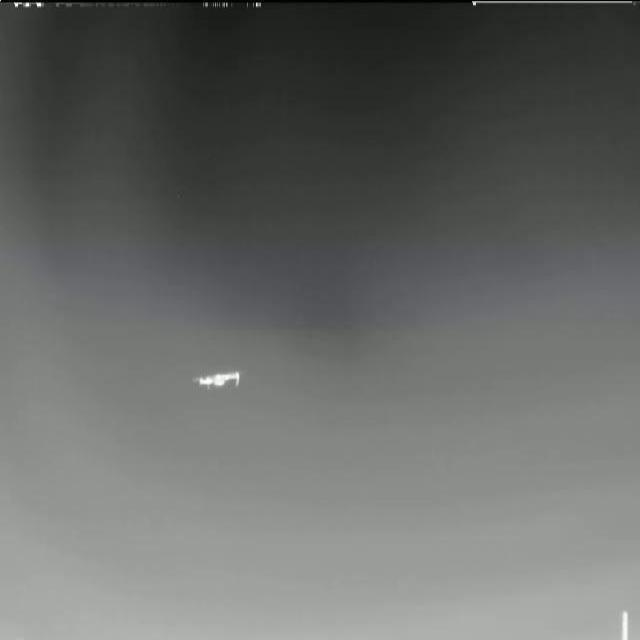DRONE: (187, 362, 250, 394)
